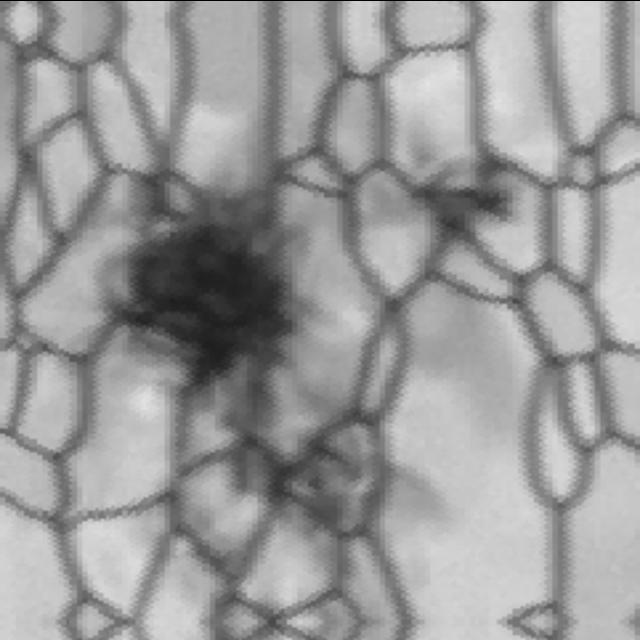good_void: (83, 162, 331, 412), (218, 388, 409, 564), (399, 140, 538, 262)
